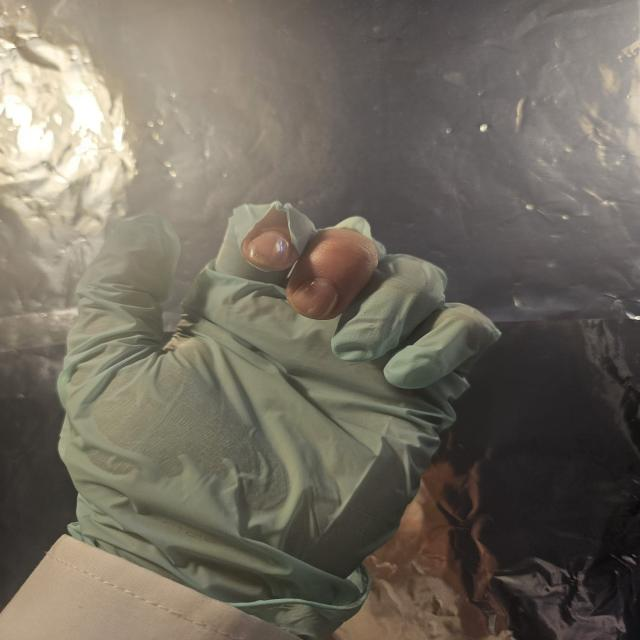gloves_damaged: (59, 197, 506, 640)
